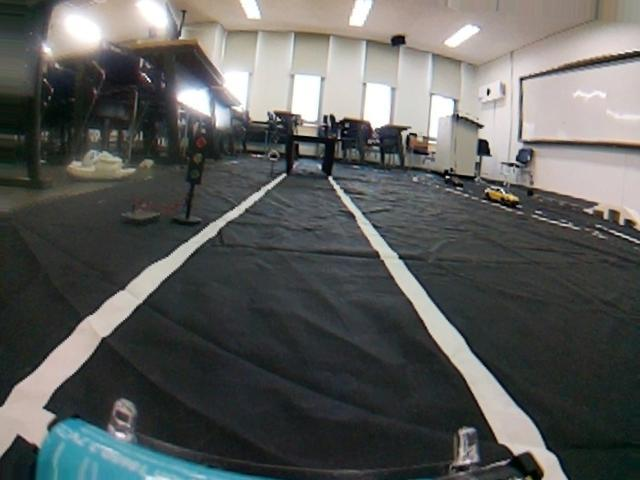straight: (10, 237, 623, 479)
yellow_light: (183, 126, 212, 193)
